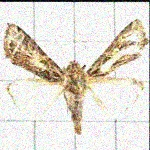Spodoptera litura: (2, 18, 149, 135)
